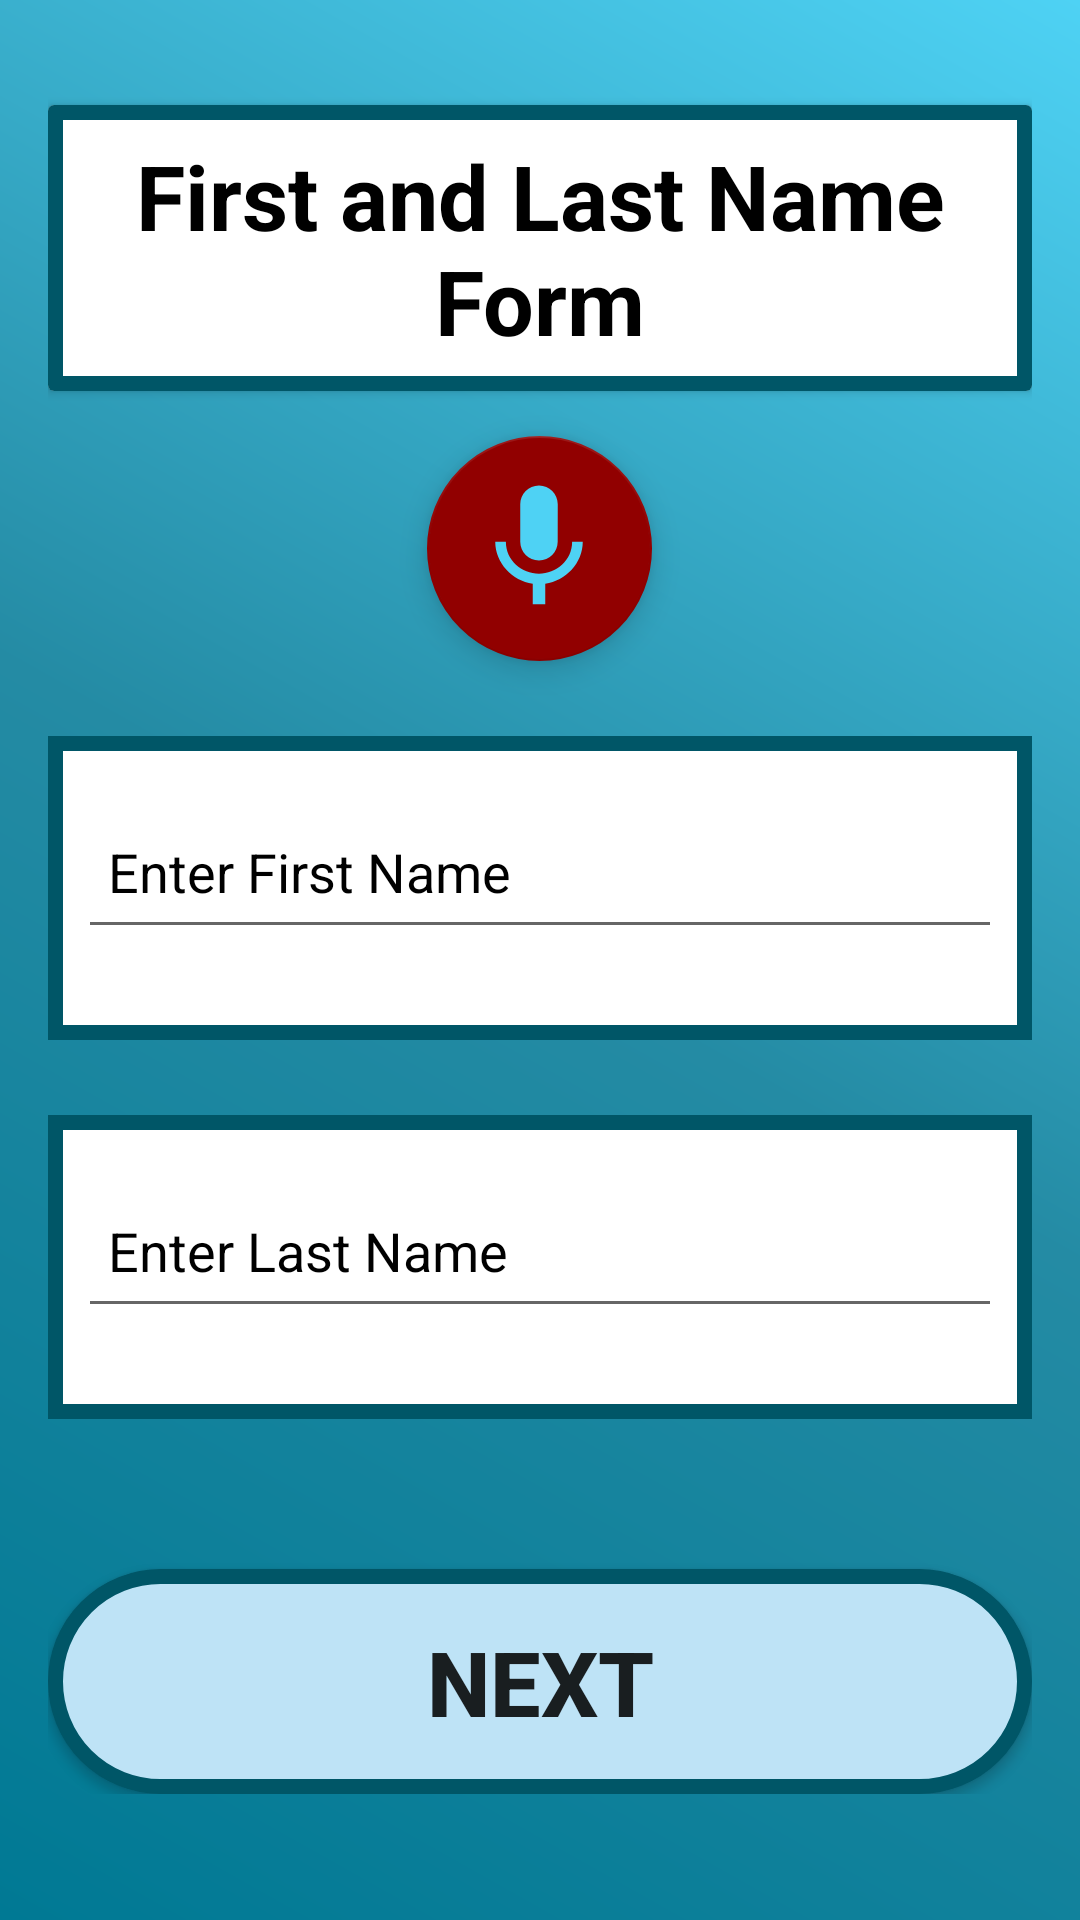

Named icons in this screenshot (1080x1920) and their centers, (x,y):
Select microphone to Dictate your First and Last Name: (539,548)
